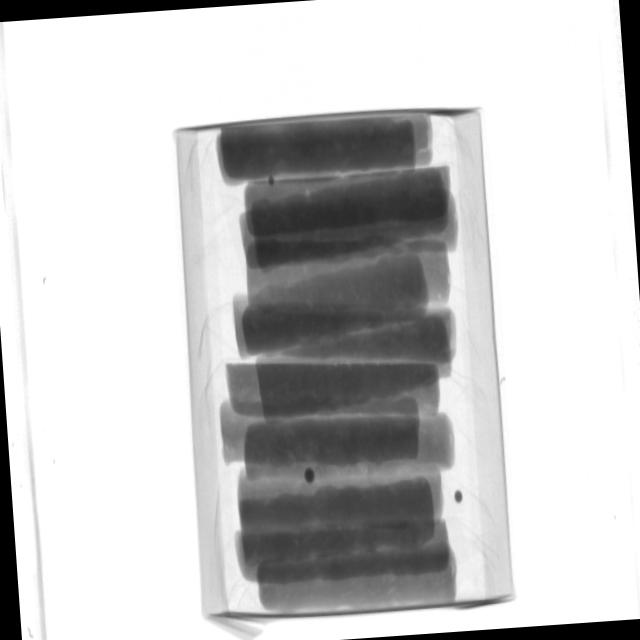ym: (303, 466, 315, 483), (456, 489, 466, 504), (269, 177, 277, 186)
